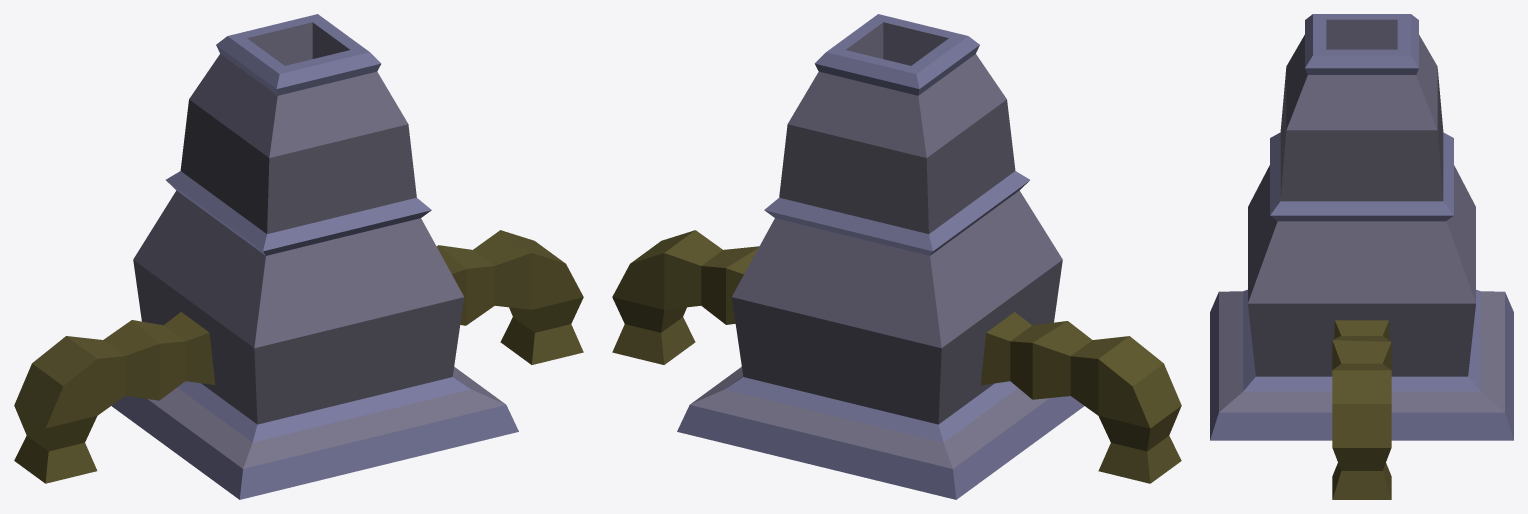
File: lv1_heavy_turret.fbx
3 views of the same model, side by side, from view 1: azimuth 30°, elevation 25°; view 2: azimuth 150°, elevation 25°; view 3: azimuth 270°, elevation 25° (orthographic). The views are drawn at different scales.
Parts seen in each view (by area): view 1: Cube, Cube_2, Cube_1; view 2: Cube, Cube_2, Cube_1; view 3: Cube, Cube_1.
Part boxes in pixels (x1,y1,x2,y2): Cube: [111, 14, 518, 499]; Cube_2: [14, 312, 215, 483]; Cube_1: [436, 230, 583, 364]; Cube: [677, 14, 1084, 499]; Cube_2: [980, 312, 1181, 483]; Cube_1: [612, 230, 759, 364]; Cube: [1210, 14, 1513, 440]; Cube_1: [1332, 320, 1391, 499].
Bounding box in the file's own units: 396 × 255 × 206.
